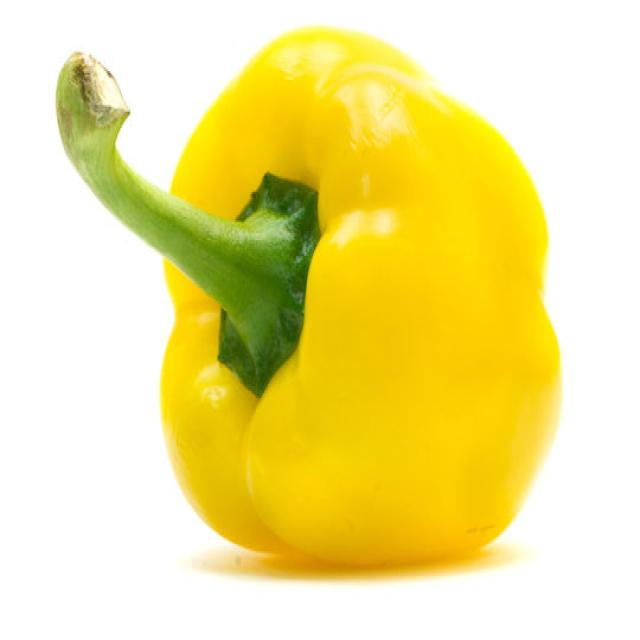Bell Pepper: (60, 16, 568, 562)
